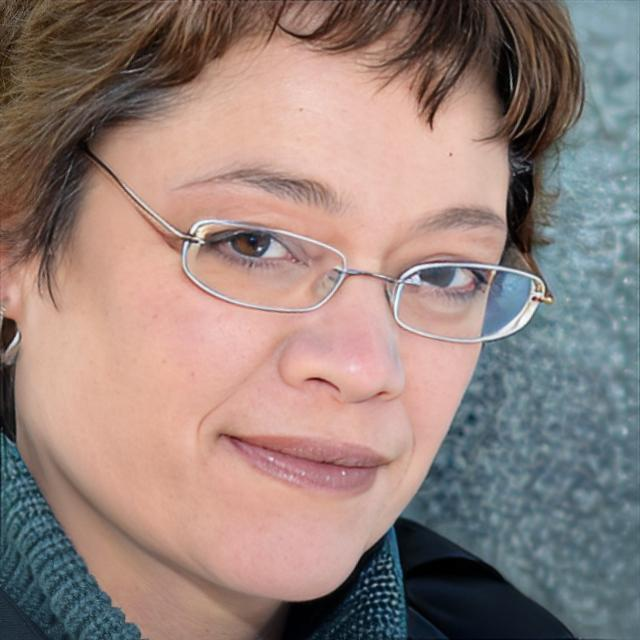content: (25, 0, 512, 601)
